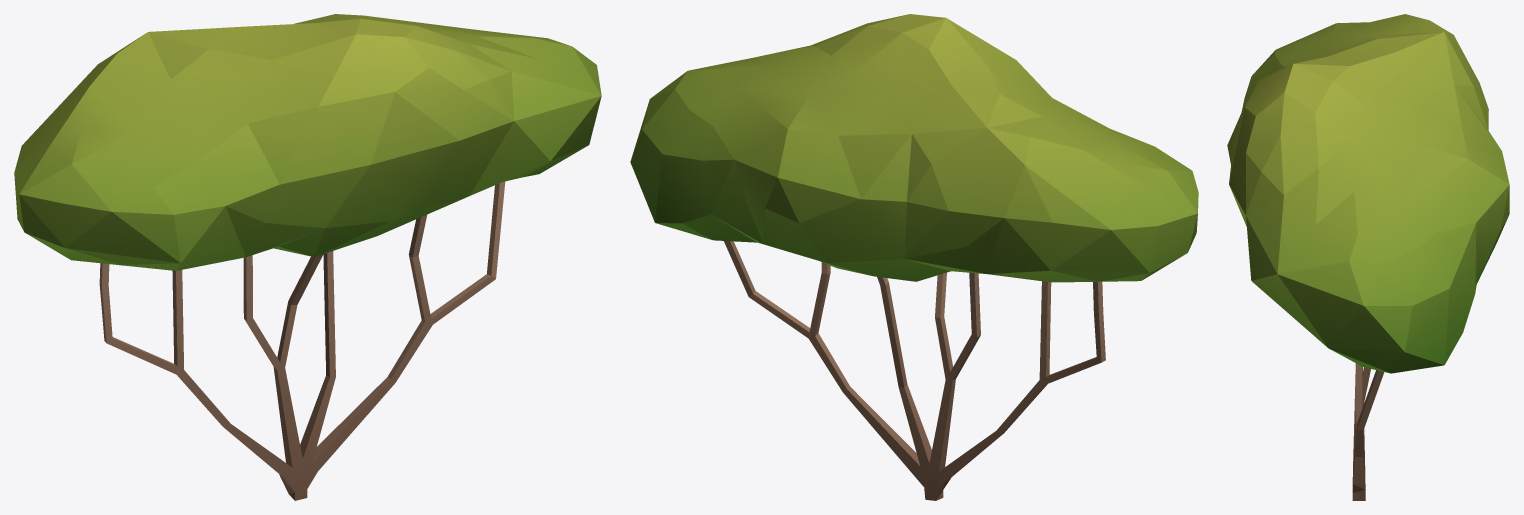
Rendered from Plant_06.fbx.
3 views of the same model, side by side, from view 1: azimuth 30°, elevation 25°; view 2: azimuth 150°, elevation 25°; view 3: azimuth 270°, elevation 25° (orthographic). The views are drawn at different scales.
Visible parts, largest first — view 1: Plant_06; view 2: Plant_06; view 3: Plant_06.
Part boxes in pixels (x1,y1,x2,y2): Plant_06: (14, 14, 601, 500); Plant_06: (630, 14, 1198, 500); Plant_06: (1227, 14, 1509, 500).
Size of the model in its own units: 182 by 144 by 82.94.
